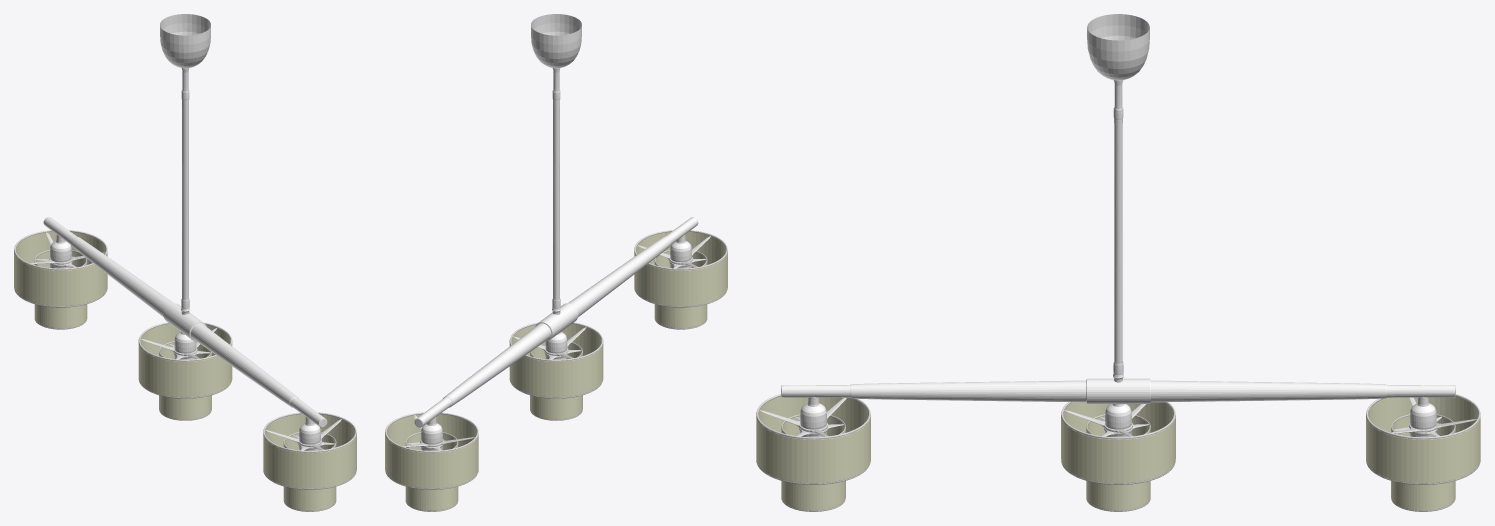
File: sweethome3d-scopia-pendant-lamp-57.glb
The picture shows the model from 3 angles, left to right: view 1: azimuth 30°, elevation 25°; view 2: azimuth 150°, elevation 25°; view 3: azimuth 270°, elevation 25°; orthographic projection. The views are drawn at different scales.
Visible parts, largest first — view 1: Circle_Circle_pantalla, Circle_Circle_redwood, Circle_Circle_gold, Circle_Circle_whitemetal; view 2: Circle_Circle_pantalla, Circle_Circle_redwood, Circle_Circle_gold, Circle_Circle_whitemetal; view 3: Circle_Circle_pantalla, Circle_Circle_redwood, Circle_Circle_gold, Circle_Circle_whitemetal.
Boxes of the visible parts, x1=… form: Circle_Circle_pantalla: x1=14, y1=231, x2=356, y2=510; Circle_Circle_redwood: x1=71, y1=14, x2=298, y2=407; Circle_Circle_gold: x1=43, y1=68, x2=327, y2=450; Circle_Circle_whitemetal: x1=14, y1=230, x2=356, y2=511; Circle_Circle_pantalla: x1=385, y1=231, x2=727, y2=510; Circle_Circle_redwood: x1=443, y1=14, x2=670, y2=407; Circle_Circle_gold: x1=414, y1=68, x2=698, y2=450; Circle_Circle_whitemetal: x1=385, y1=230, x2=727, y2=511; Circle_Circle_pantalla: x1=756, y1=396, x2=1480, y2=510; Circle_Circle_redwood: x1=851, y1=14, x2=1385, y2=402; Circle_Circle_gold: x1=781, y1=80, x2=1455, y2=437; Circle_Circle_whitemetal: x1=756, y1=394, x2=1480, y2=511.
Size of the model in its own units: 0.1636 by 0.7416 by 1.03.
